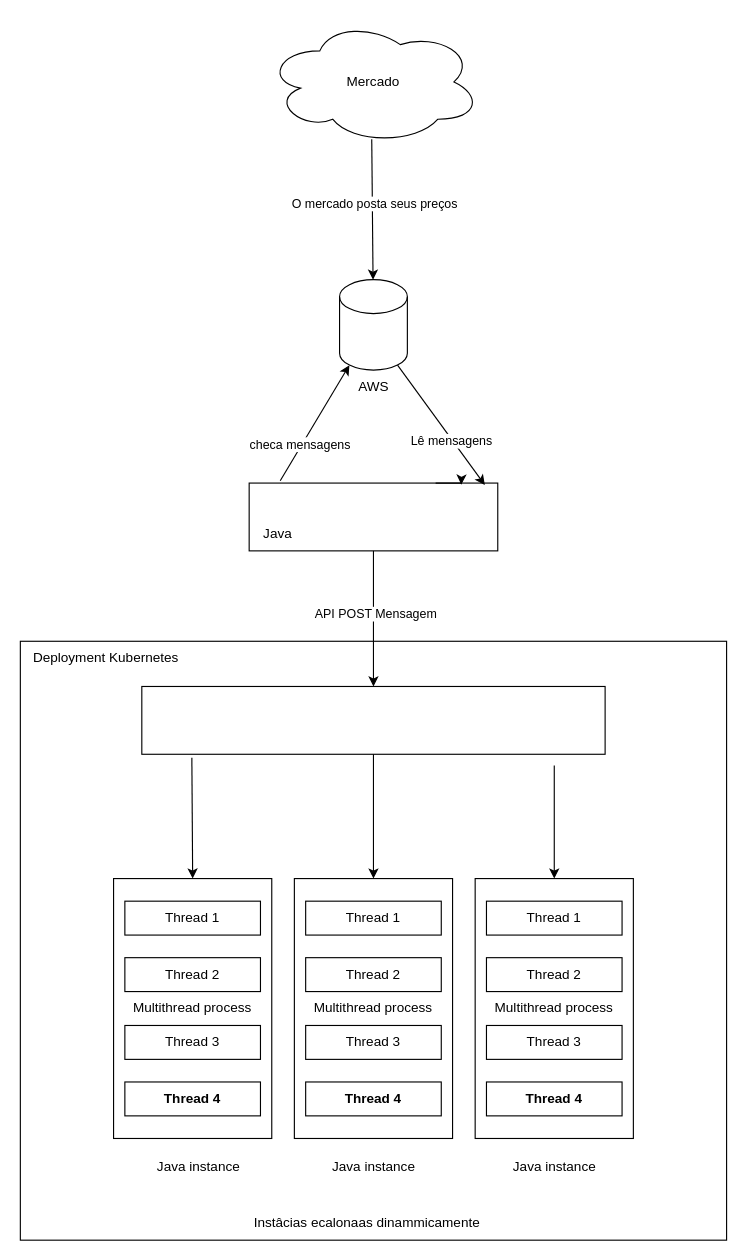
This 746x1260 diagram has some shape labels left out. The shapes that lost their labels are listed below. From the top down, each one's box as (x1, y1, x2, y2) in pixels, then its label:
(338, 279, 407, 370): SQS
(248, 482, 498, 551): SQS Listener
(141, 685, 605, 754): Load Balance / Escalonamento (Kubernetes)
